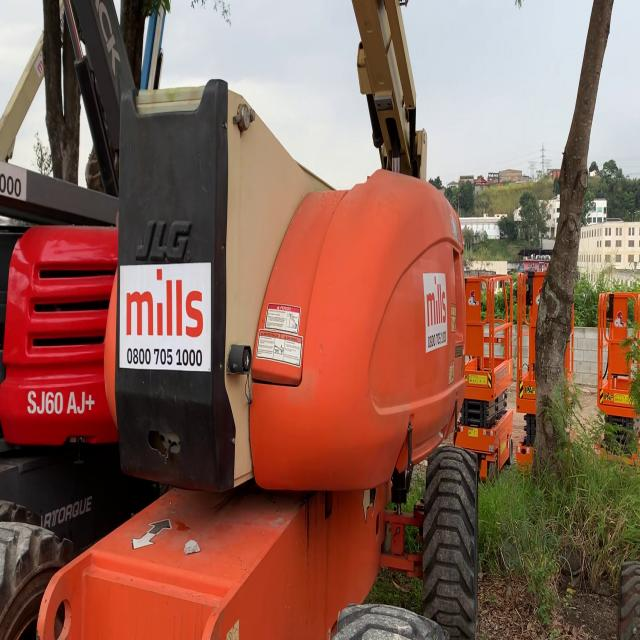Adesivos: (117, 257, 214, 378), (421, 270, 449, 357)
